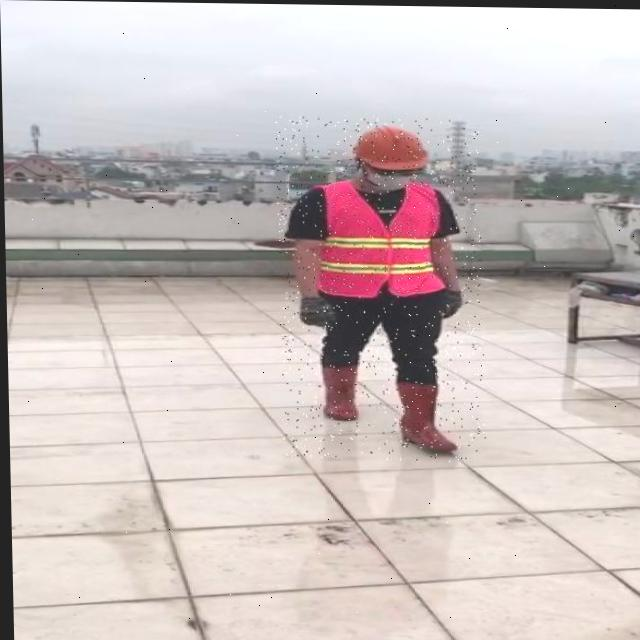Gloves: (297, 294, 338, 326), (433, 287, 462, 317)
Helmet: (350, 122, 429, 171)
Safety-Boot: (394, 378, 454, 451), (319, 361, 356, 419)
Safety-Vest: (309, 176, 447, 298)
